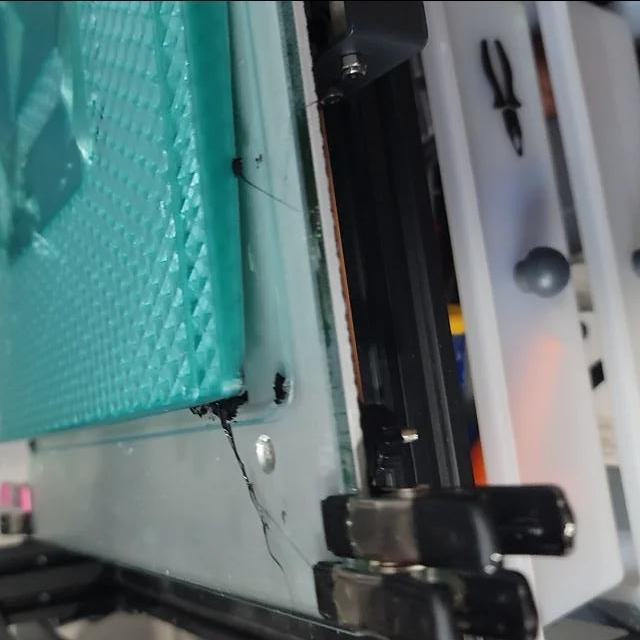Warping: (220, 206, 268, 387)
